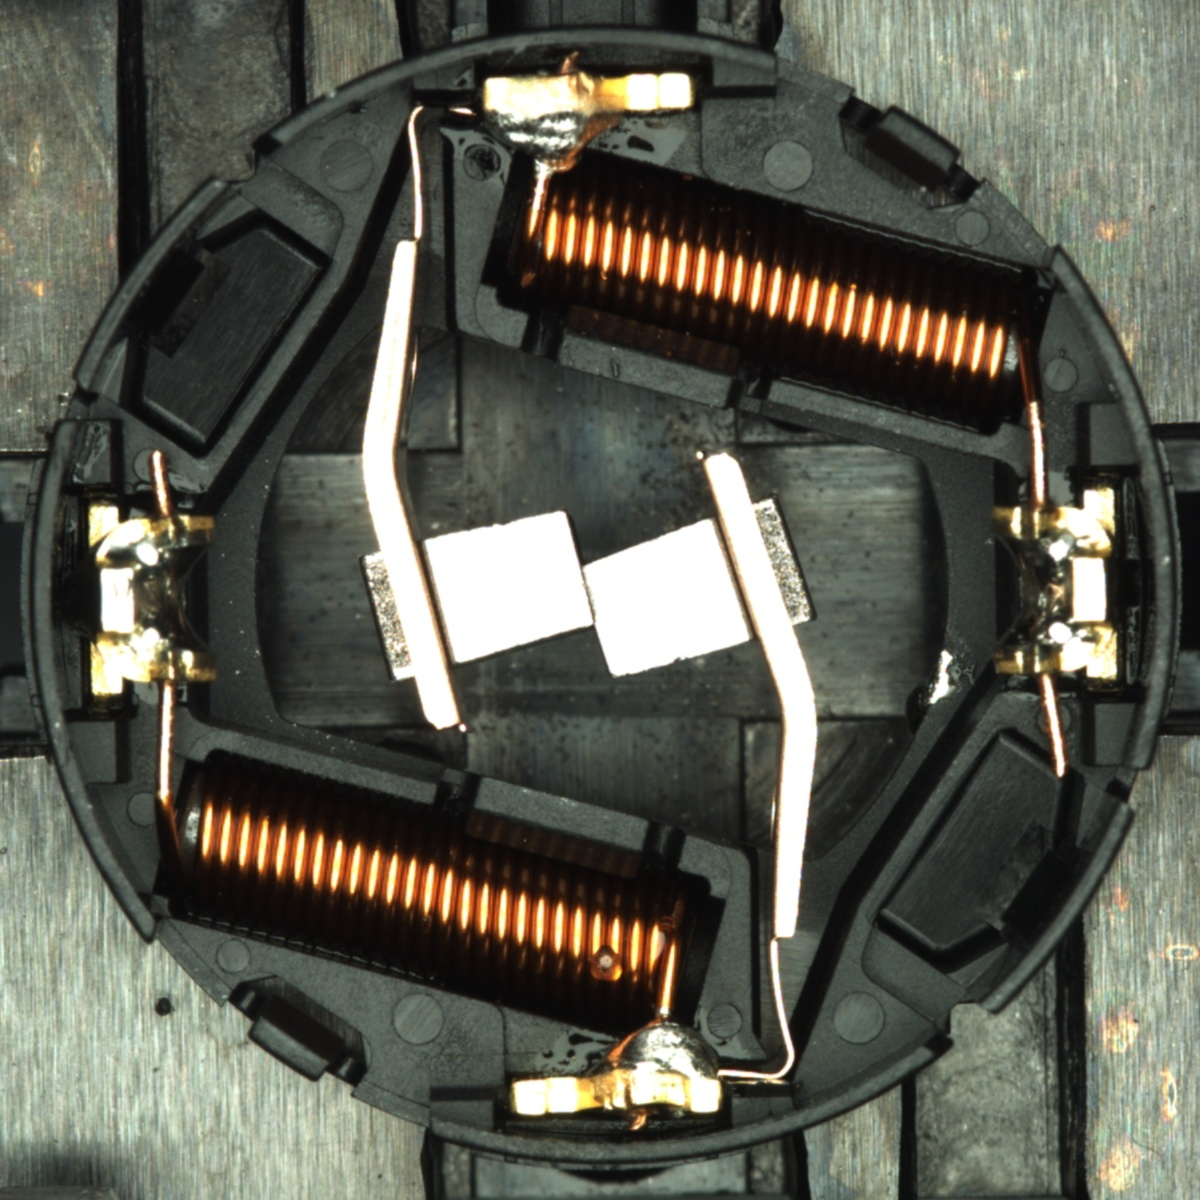1: (248, 31, 477, 256), (707, 929, 936, 1154)
2: (707, 31, 936, 256), (248, 929, 477, 1154)
3: (19, 256, 248, 480), (936, 705, 1165, 929)
4: (248, 256, 477, 480), (707, 705, 936, 929)
5: (477, 144, 707, 368), (477, 817, 707, 1041)
6: (707, 256, 936, 480), (248, 705, 477, 929)
7: (936, 256, 1165, 480), (19, 705, 248, 929)
cacbon: (387, 500, 797, 685)
chau_dien: (81, 497, 223, 700), (983, 486, 1123, 686)
tay_choi: (482, 70, 697, 173), (509, 1017, 724, 1117)
thanh_de: (954, 788, 1141, 1030), (59, 165, 243, 404)
vun_chi: (915, 648, 958, 709), (905, 681, 945, 735)
